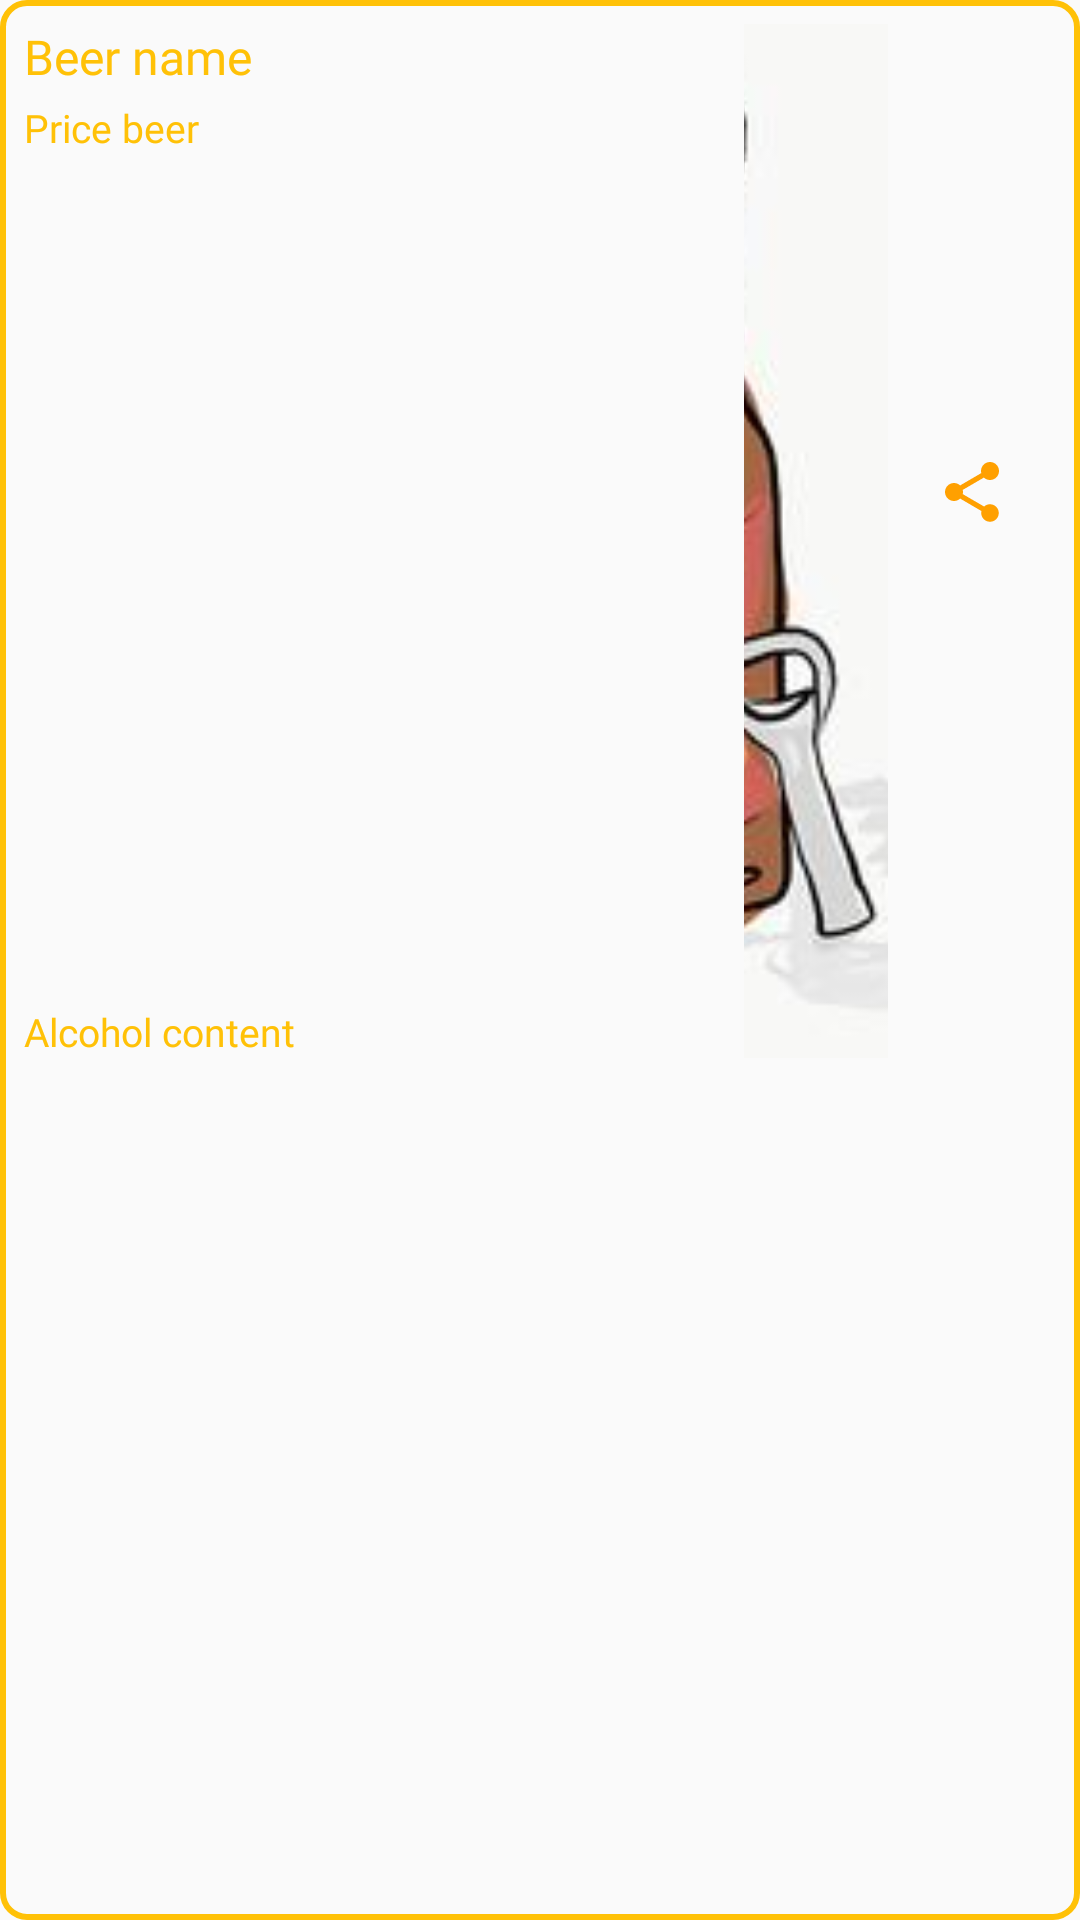

Screen size 1080*1920. Icon name, then its center in pixels as (x,y):
share: (972,492)
